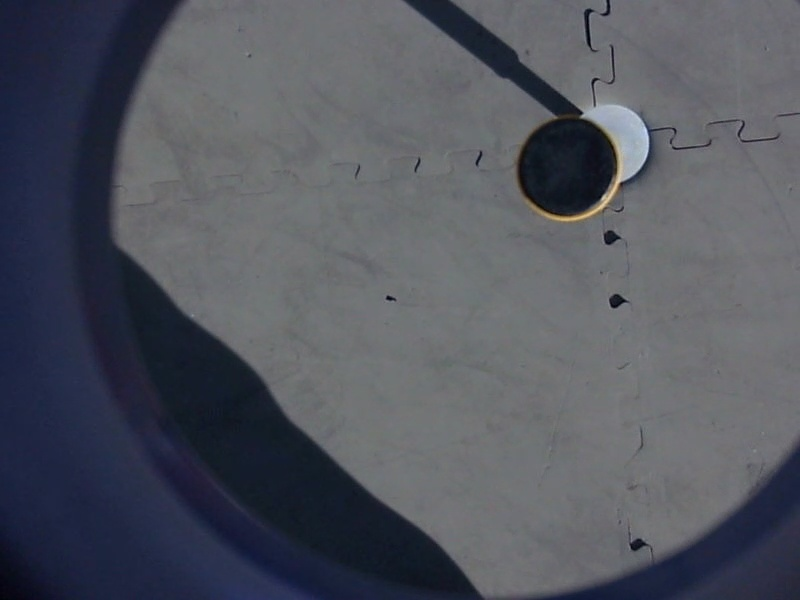tip: (509, 109, 627, 229)
